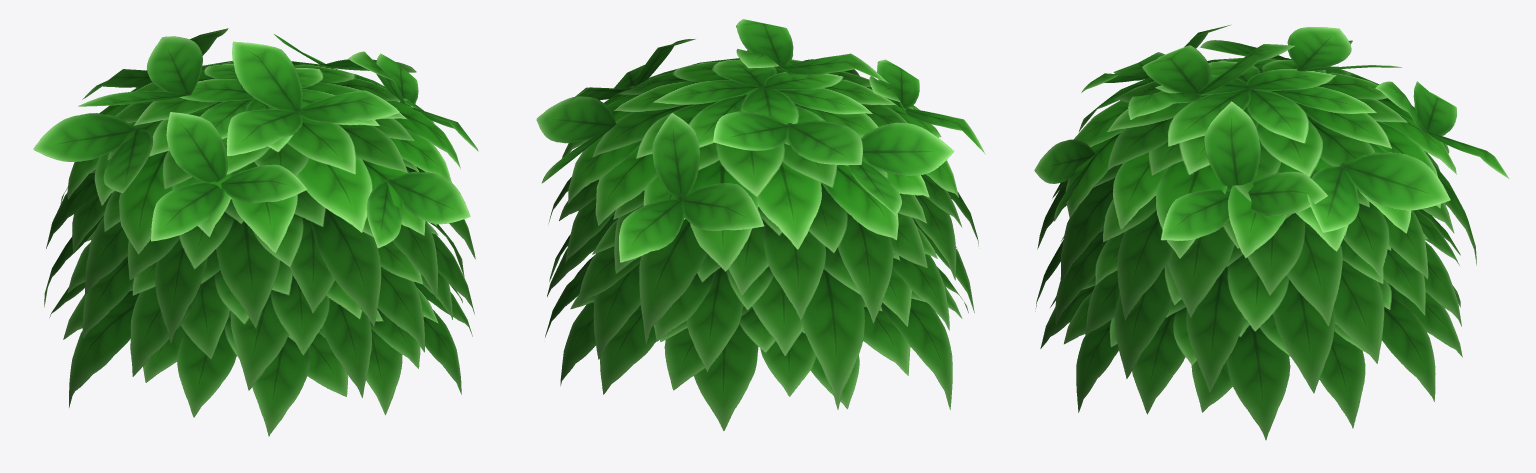
File: sm_env_bush.fbx
3 views of the same model, side by side, from view 1: azimuth 30°, elevation 25°; view 2: azimuth 150°, elevation 25°; view 3: azimuth 270°, elevation 25° (orthographic).
Parts seen in each view (by area): view 1: pPlane20; view 2: pPlane20; view 3: pPlane20.
Part boxes in pixels (bbox=[...]): pPlane20: bbox=[33, 28, 478, 436]; pPlane20: bbox=[536, 19, 985, 430]; pPlane20: bbox=[1034, 24, 1509, 440].
Size of the model in its own units: 105 by 79.66 by 113.
